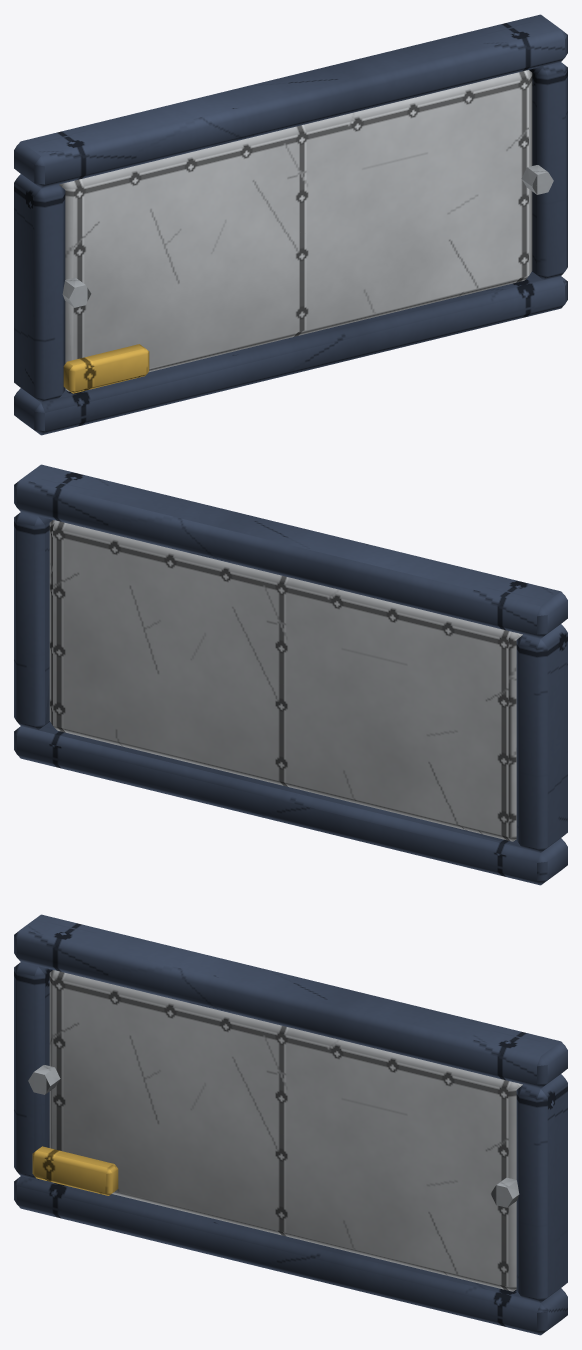
The model's file is wall_plaque.glb.
3 views of the same model, one above another, from view 1: azimuth 30°, elevation 25°; view 2: azimuth 150°, elevation 25°; view 3: azimuth 330°, elevation 25° (orthographic).
Visible parts, largest first — view 1: DL017_WallPlaque_hull_offwhite, DL017_WallPlaque_graphite_navy, DL017_WallPlaque_amber_accent, DL017_WallPlaque_titanium; view 2: DL017_WallPlaque_hull_offwhite, DL017_WallPlaque_graphite_navy; view 3: DL017_WallPlaque_hull_offwhite, DL017_WallPlaque_graphite_navy, DL017_WallPlaque_amber_accent, DL017_WallPlaque_titanium.
Part boxes in pixels (x1,y1,x2,y2): DL017_WallPlaque_hull_offwhite: (59, 70, 532, 391); DL017_WallPlaque_graphite_navy: (14, 14, 567, 435); DL017_WallPlaque_amber_accent: (63, 344, 149, 393); DL017_WallPlaque_titanium: (62, 165, 553, 307); DL017_WallPlaque_hull_offwhite: (49, 520, 522, 841); DL017_WallPlaque_graphite_navy: (14, 464, 567, 885); DL017_WallPlaque_hull_offwhite: (49, 970, 522, 1291); DL017_WallPlaque_graphite_navy: (14, 914, 567, 1335); DL017_WallPlaque_amber_accent: (32, 1146, 118, 1195); DL017_WallPlaque_titanium: (28, 1065, 519, 1207).
Size of the model in its own units: 1.2 by 0.6 by 0.135.
Materials: 4 (4 with a texture image).
